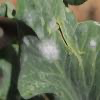Squash Powdery mildew leaf: (35, 35, 65, 67)
